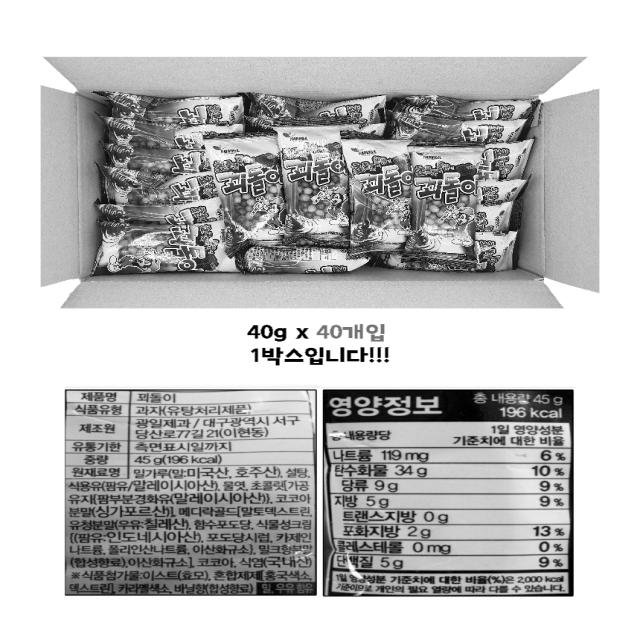Nutrition Label: (314, 382, 588, 609)
